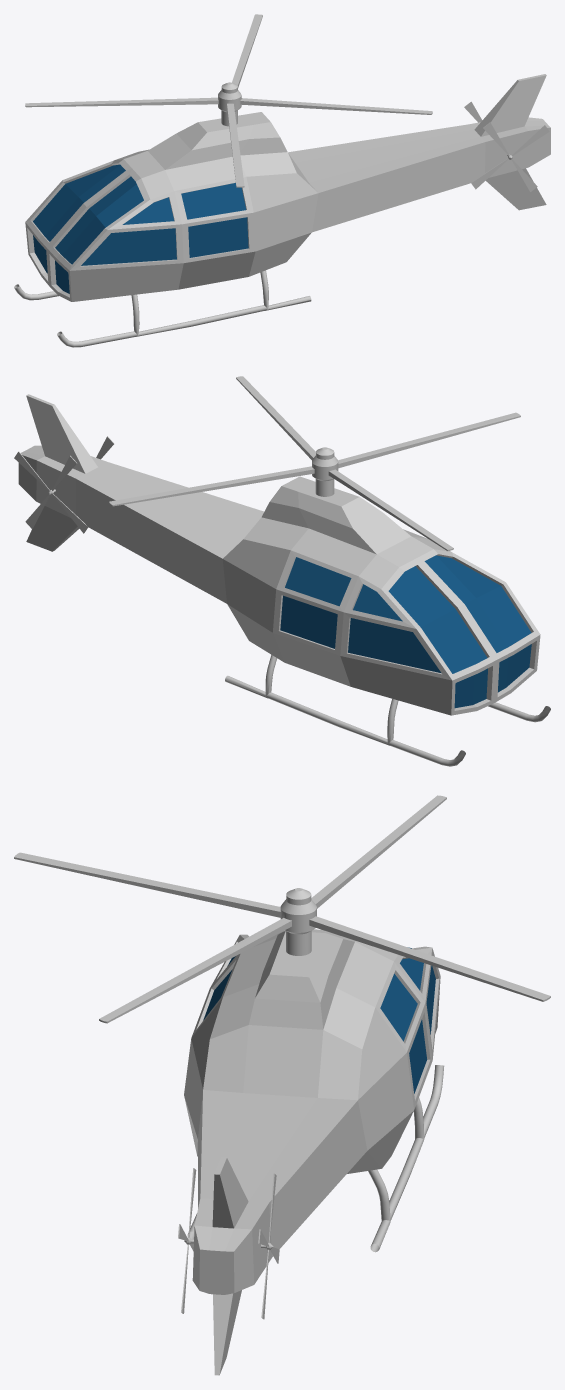
The model's file is helicopter_animation_000193.obj.
3 views of the same model, one above another, from view 1: azimuth 30°, elevation 25°; view 2: azimuth 150°, elevation 25°; view 3: azimuth 270°, elevation 25° (orthographic). The views are drawn at different scales.
Parts seen in each view (by area): view 1: Helicopter.007_Cylinder.008, Helicopter.001_Cylinder.001, Helicopter.003_Cylinder.004; view 2: Helicopter.007_Cylinder.008, Helicopter.001_Cylinder.001, Helicopter.004_Cylinder.005; view 3: Helicopter.007_Cylinder.008, Helicopter.001_Cylinder.001.
Part boxes in pixels (<box>): Helicopter.007_Cylinder.008: <box>14,74,550,347</box>; Helicopter.001_Cylinder.001: <box>25,14,432,187</box>; Helicopter.003_Cylinder.004: <box>471,122,549,191</box>; Helicopter.007_Cylinder.008: <box>18,394,550,766</box>; Helicopter.001_Cylinder.001: <box>109,376,520,550</box>; Helicopter.004_Cylinder.005: <box>14,451,87,533</box>; Helicopter.007_Cylinder.008: <box>184,929,444,1375</box>; Helicopter.001_Cylinder.001: <box>14,795,550,1023</box>.
Bounding box in the file's own units: 7.55 × 3.2 × 4.74.
